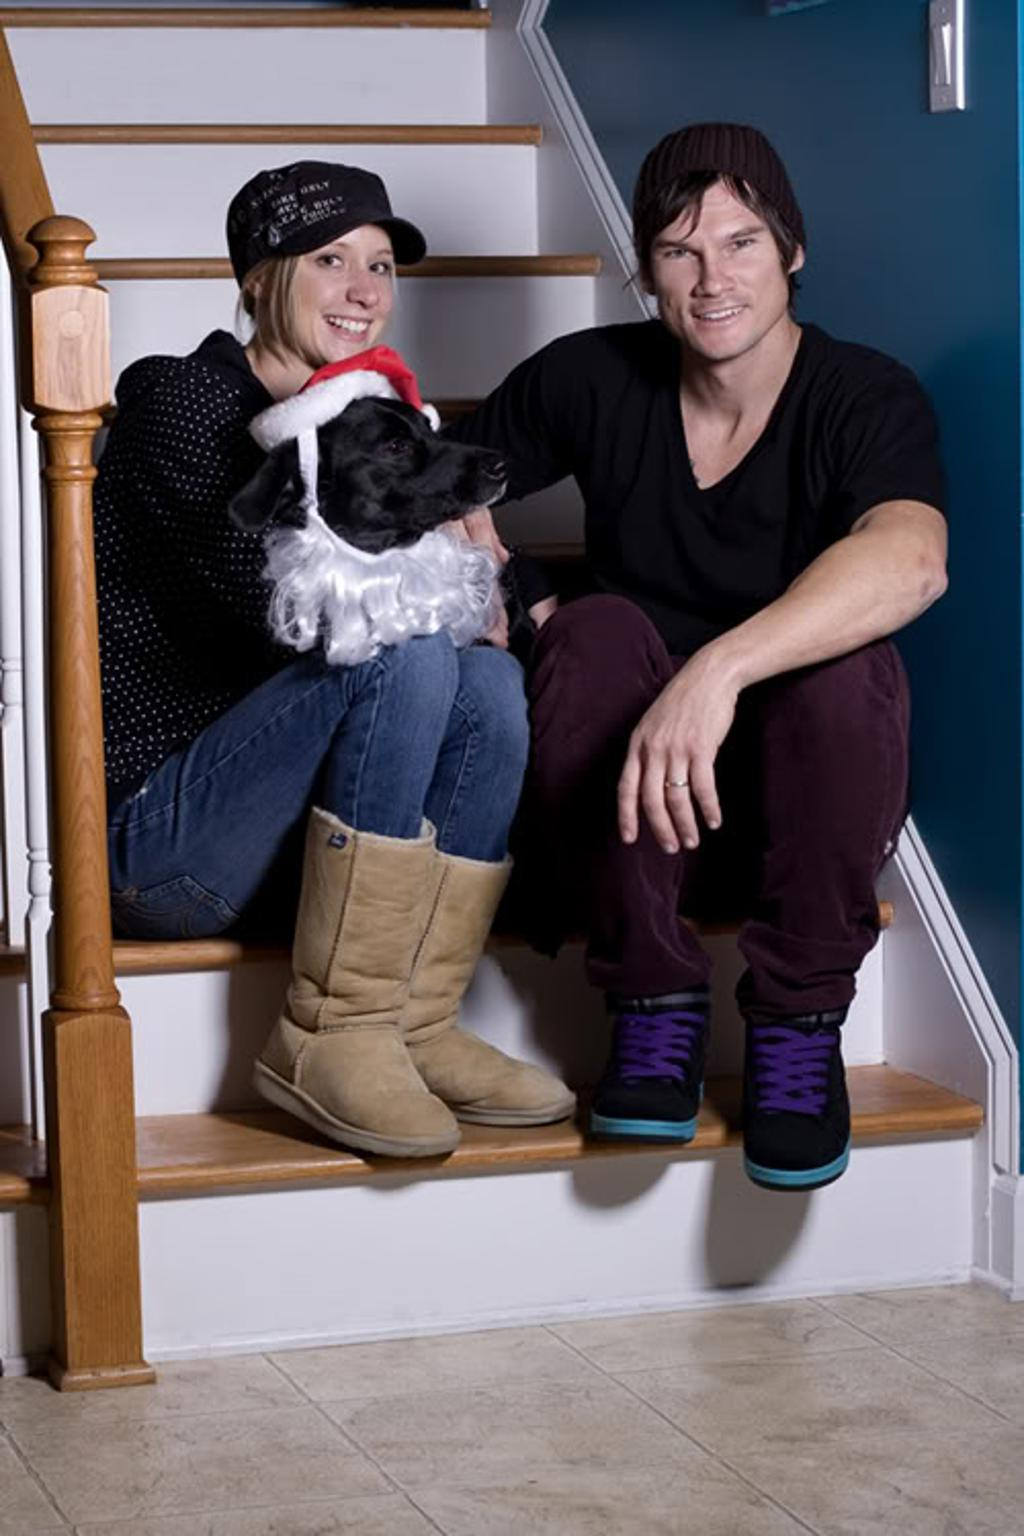face: (664, 192, 781, 363), (273, 213, 399, 363)
